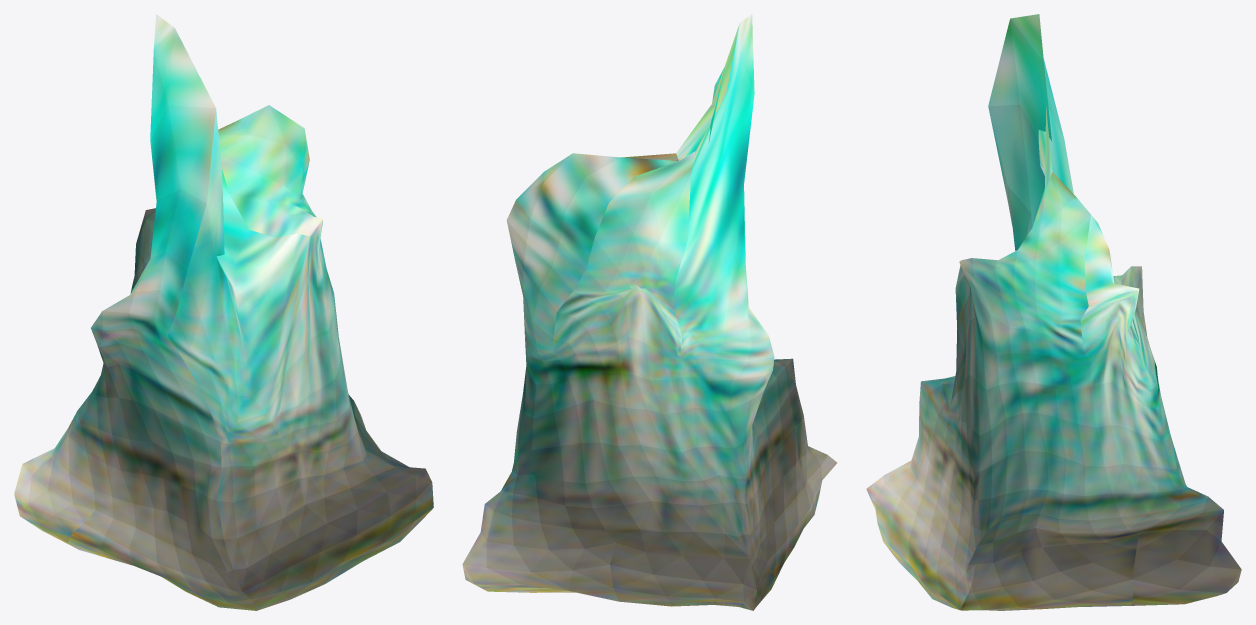
Rendered from statue_of_liberty.gltf.
3 renders of one model, left to right at view 1: azimuth 30°, elevation 25°; view 2: azimuth 150°, elevation 25°; view 3: azimuth 270°, elevation 25°, orthographic. The views are drawn at different scales.
Parts seen in each view (by area): view 1: pMesh1; view 2: pMesh1; view 3: pMesh1.
Part boxes in pixels (x1,y1,x2,y2): pMesh1: (14,14,433,610); pMesh1: (462,14,837,610); pMesh1: (866,14,1241,610).
Bounding box in the file's own units: 2.32 × 3.91 × 2.53.
1 material, 1 textured.
